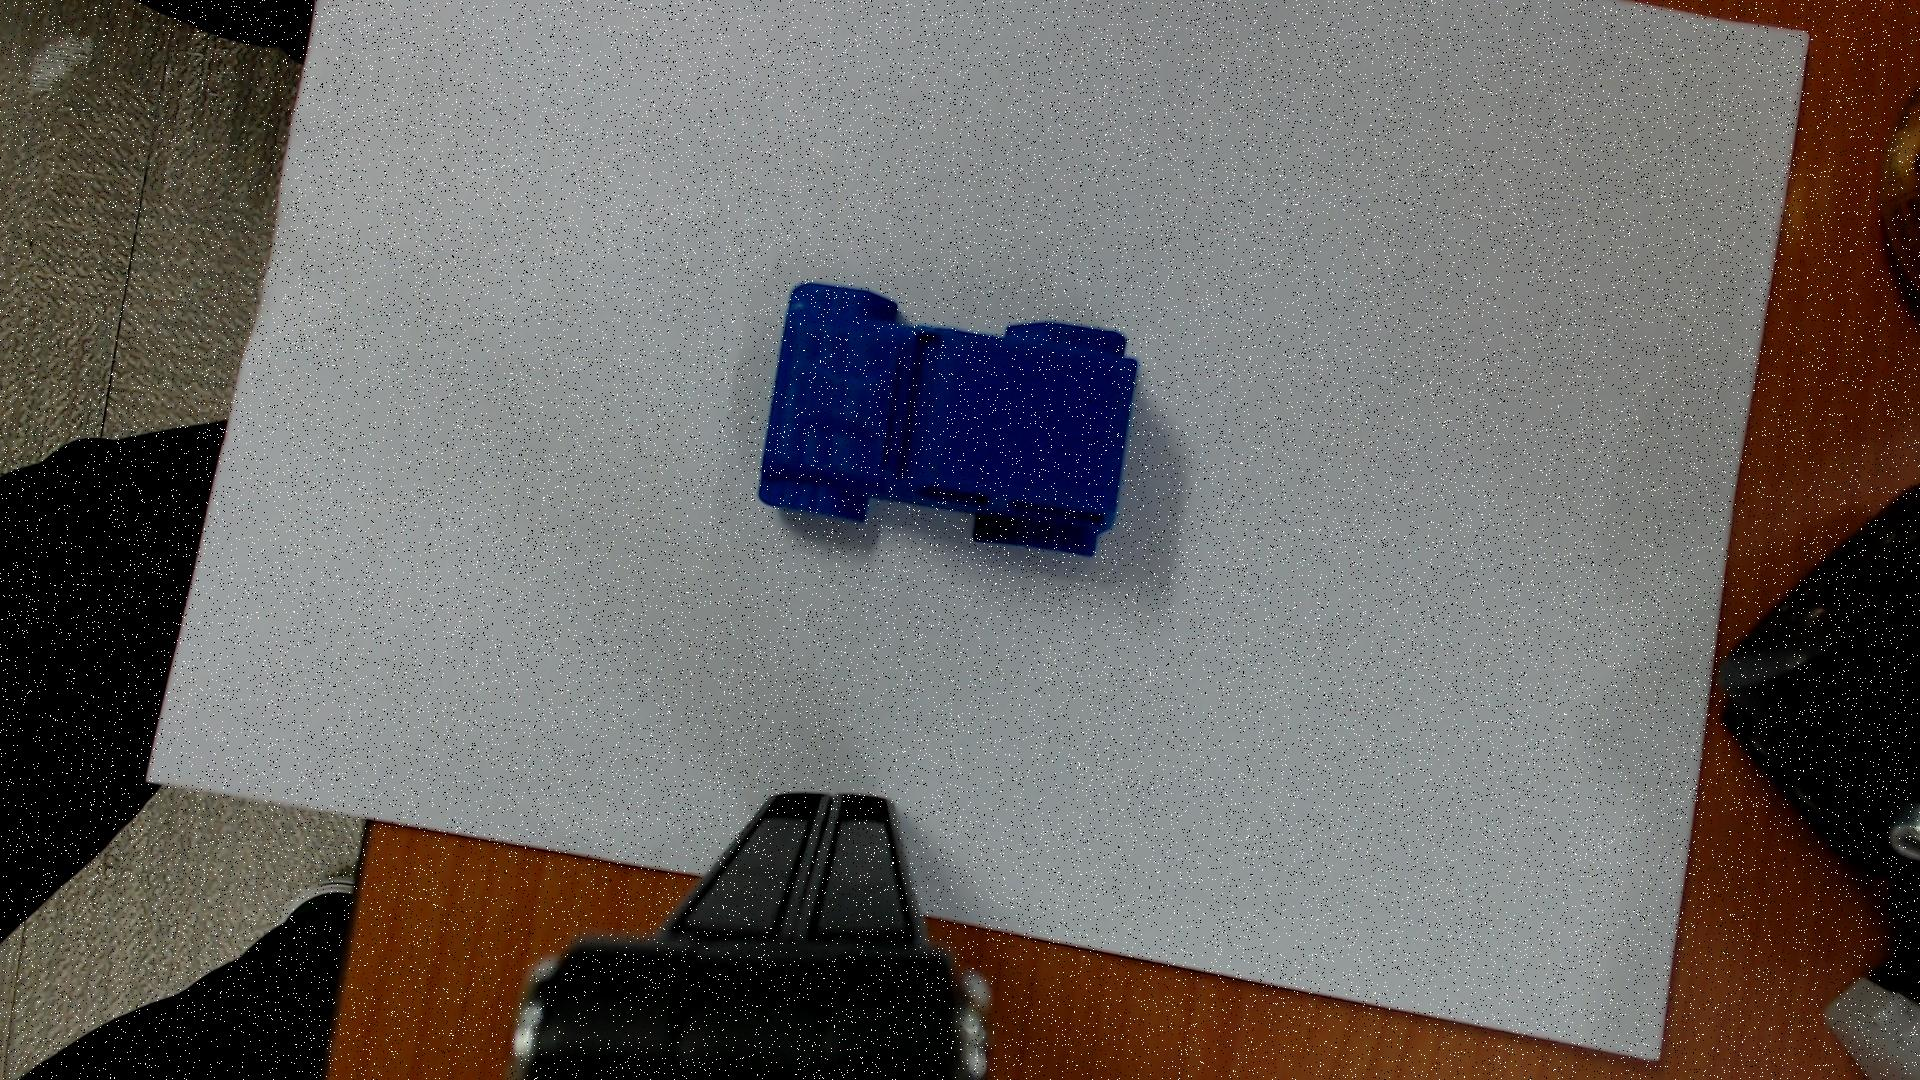Upper_ng: (758, 284, 1137, 556)
